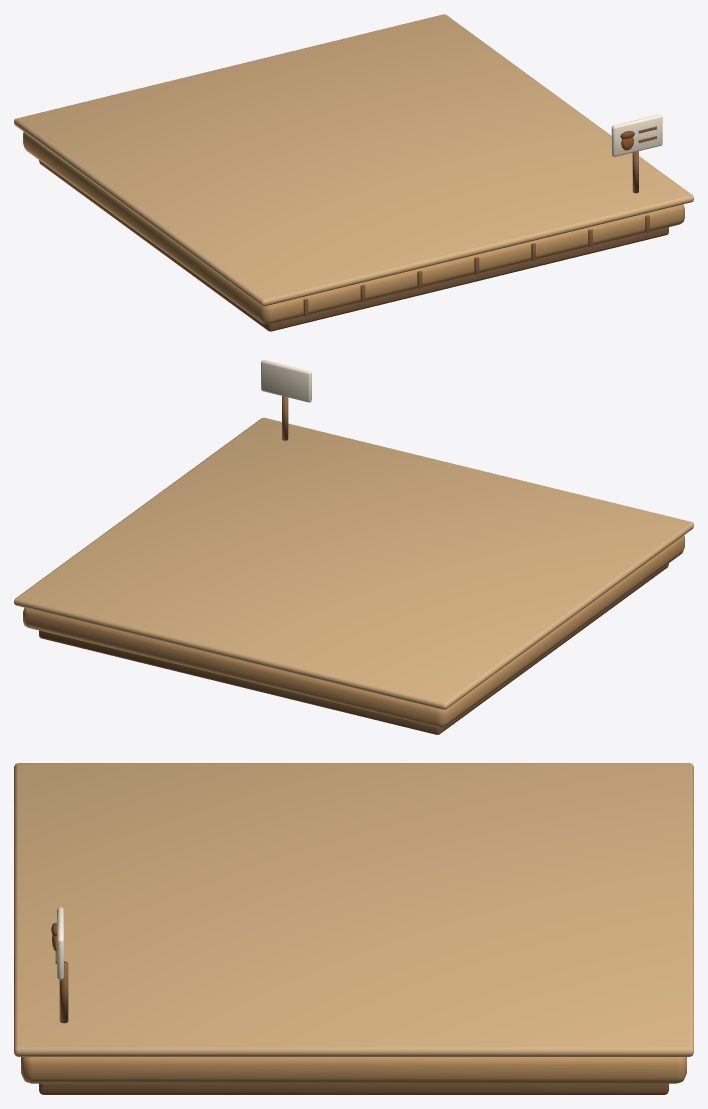
Rendered from display-stand.glb.
The picture shows the model from 3 angles, top to bottom: view 1: azimuth 30°, elevation 25°; view 2: azimuth 150°, elevation 25°; view 3: azimuth 270°, elevation 25°; orthographic projection. The views are drawn at different scales.
Parts seen in each view (by area): view 1: stand, tag; view 2: stand, tag; view 3: stand, tag.
Part boxes in pixels (<box>): stand: <box>14,14,693,331</box>; tag: <box>611,114,662,193</box>; stand: <box>14,417,693,734</box>; tag: <box>261,360,311,440</box>; stand: <box>14,763,693,1094</box>; tag: <box>51,907,68,1023</box>.
Bounding box in the file's own units: 1.9 × 0.485 × 1.9.
